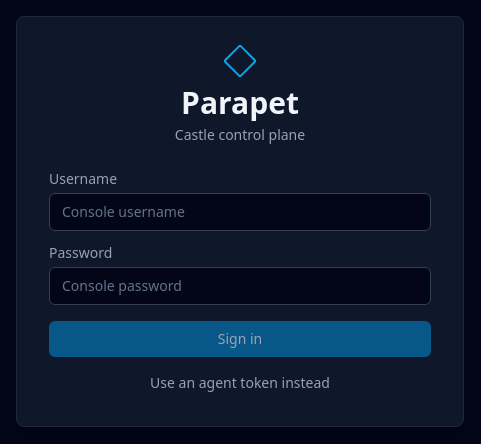
Test: LoginPage password mode (default, CRI-195) › submit stays disabled until both username and password are entered
Expected: the button with test id "login-submit" is disabled, [49, 320, 431, 356]
Type "operator" into the field with test id "login-username" at [240, 212], box [49, 192, 431, 230]
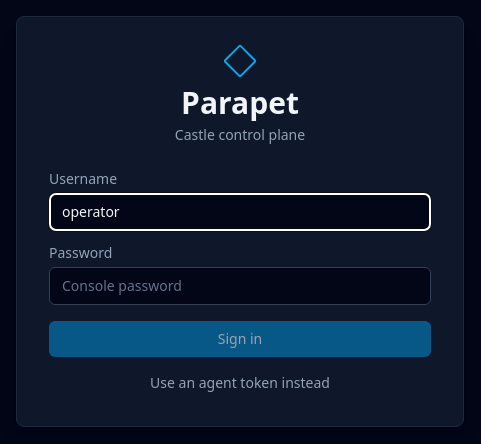
Expected: the button with test id "login-submit" is disabled, [49, 320, 431, 356]
Type "op-password" into the password field with test id "login-password" at [240, 286], box [49, 266, 431, 304]
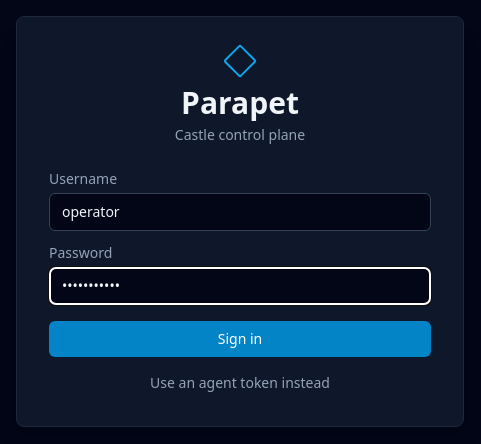
Now the button with test id "login-submit" is enabled, box [49, 320, 431, 356]
